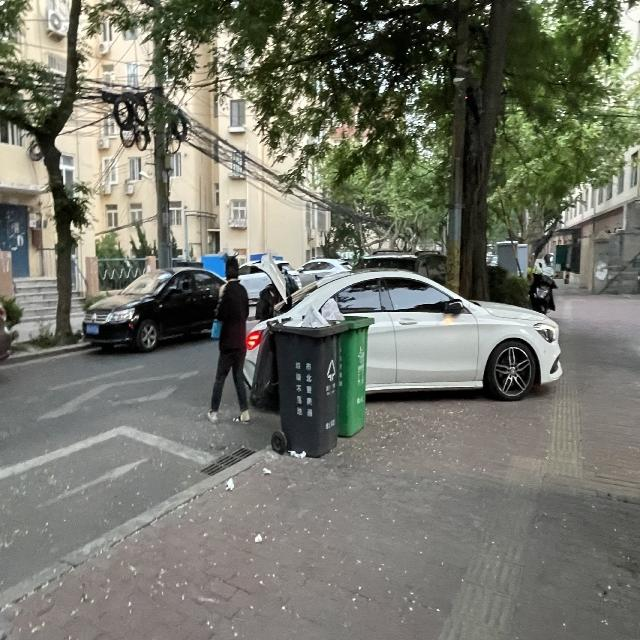overflow: (252, 301, 348, 458), (320, 298, 376, 435)
